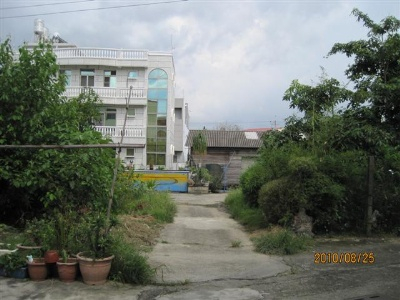water_tower: (34, 18, 44, 35)
